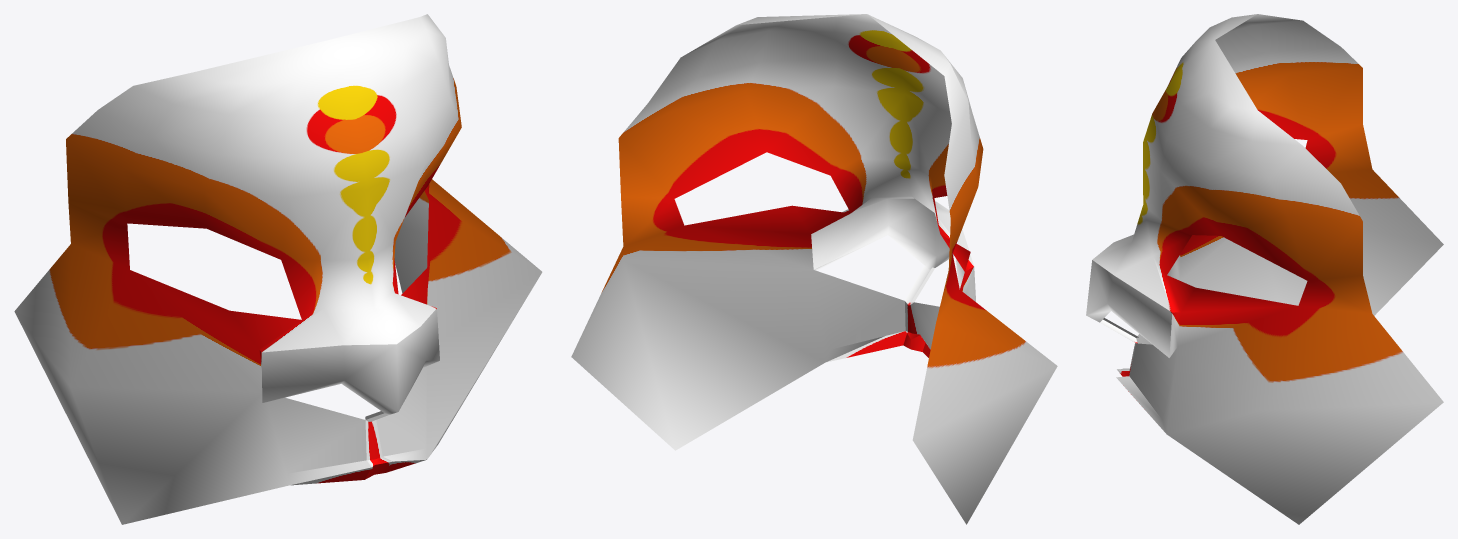
Rendered from FireMask_ThirdAttempt.fbx.
3 views of the same model, side by side, from view 1: azimuth 30°, elevation 25°; view 2: azimuth 150°, elevation 25°; view 3: azimuth 270°, elevation 25° (orthographic). The views are drawn at different scales.
Visible parts, largest first — view 1: pSphere1; view 2: pSphere1; view 3: pSphere1.
Boxes of the visible parts, box(x1,y1,x2,y2) form: pSphere1: box(14, 14, 542, 524); pSphere1: box(571, 14, 1057, 524); pSphere1: box(1086, 14, 1443, 524).
Size of the model in its own units: 6.07 by 5.91 by 4.57.
Materials: 1 (1 with a texture image).
